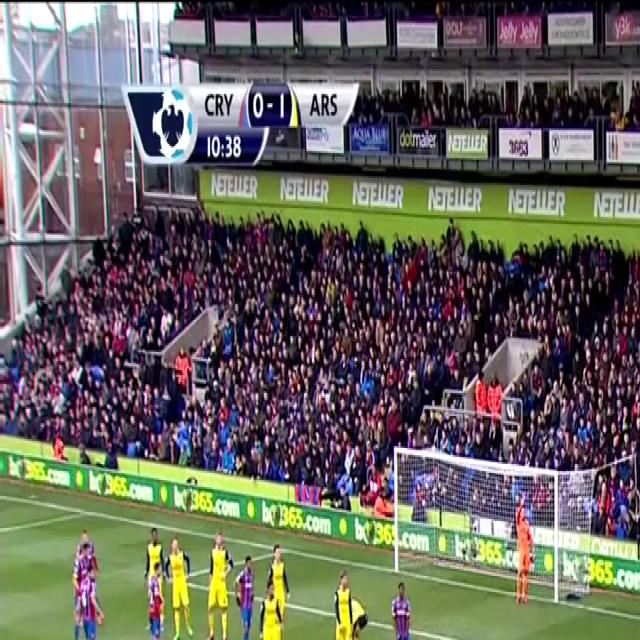goalkeeper: (512, 495, 535, 608)
soccer-player: (318, 560, 371, 640), (61, 565, 110, 640), (166, 533, 197, 640), (204, 521, 231, 640), (379, 590, 422, 640), (233, 549, 255, 640), (256, 578, 281, 640)
